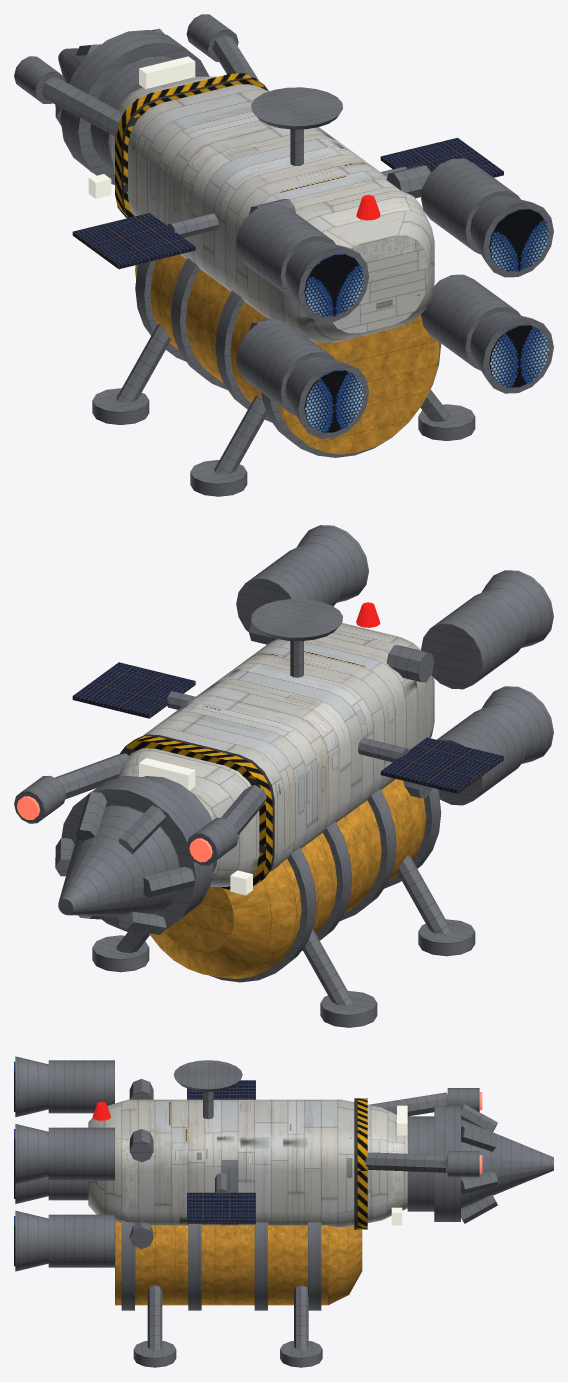
Rendered from dron.gltf.
3 views of the same model, one above another, from view 1: azimuth 30°, elevation 25°; view 2: azimuth 150°, elevation 25°; view 3: azimuth 270°, elevation 25° (orthographic). The views are drawn at different scales.
Visible parts, largest first — view 1: dron_estructura, dron_casco, dron_bodega, dron_toberas, dron_paneles, dron_aviso, dron_luces; view 2: dron_estructura, dron_casco, dron_bodega, dron_paneles, dron_aviso, dron_luces, dron_laser; view 3: dron_estructura, dron_casco, dron_bodega, dron_paneles, dron_aviso, dron_luces.
Boxes of the visible parts, <box> form: dron_estructura: <box>14,14,553,496</box>; dron_casco: <box>111,76,434,342</box>; dron_bodega: <box>135,254,439,454</box>; dron_toberas: <box>304,209,548,432</box>; dron_paneles: <box>72,137,503,269</box>; dron_aviso: <box>115,73,268,218</box>; dron_luces: <box>88,56,195,198</box>; dron_estructura: <box>14,525,553,1027</box>; dron_casco: <box>117,623,434,886</box>; dron_bodega: <box>149,779,425,978</box>; dron_paneles: <box>72,662,503,793</box>; dron_aviso: <box>119,734,274,889</box>; dron_luces: <box>139,758,252,895</box>; dron_laser: <box>17,796,212,862</box>; dron_estructura: <box>15,1056,553,1367</box>; dron_casco: <box>88,1099,407,1227</box>; dron_bodega: <box>115,1220,362,1305</box>; dron_paneles: <box>187,1080,255,1223</box>; dron_aviso: <box>354,1098,367,1229</box>; dron_luces: <box>391,1105,407,1225</box>.
Bounding box in the file's own units: 25 × 20.21 × 40.6.
Materials: 9 (8 with a texture image).
